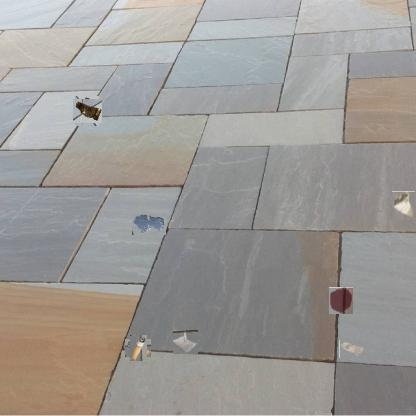dirty: (74, 97, 100, 125), (391, 191, 415, 220), (174, 330, 200, 354), (127, 337, 149, 359), (339, 340, 364, 358)
liquid: (132, 213, 166, 235), (329, 287, 353, 314)
